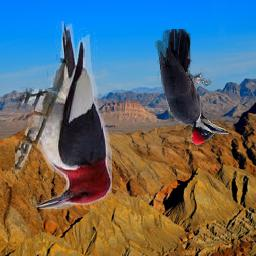Woodpecker: (16, 21, 113, 209), (155, 29, 229, 145)
